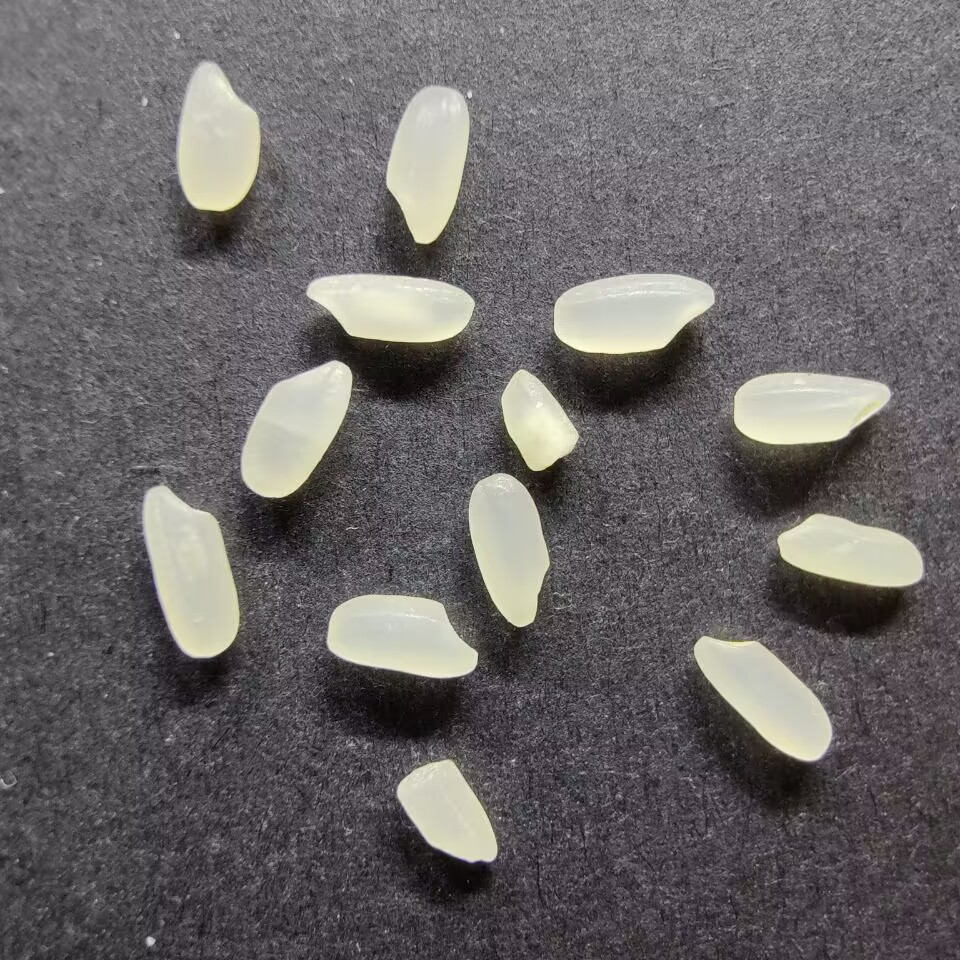broken: (393, 758, 500, 864), (499, 367, 581, 472)
rice: (692, 633, 834, 764), (140, 483, 240, 659), (238, 358, 353, 499), (383, 85, 471, 245), (550, 272, 715, 356), (324, 592, 480, 679), (466, 471, 552, 628), (175, 59, 262, 214), (304, 272, 476, 344), (731, 370, 891, 446), (776, 511, 925, 589)
